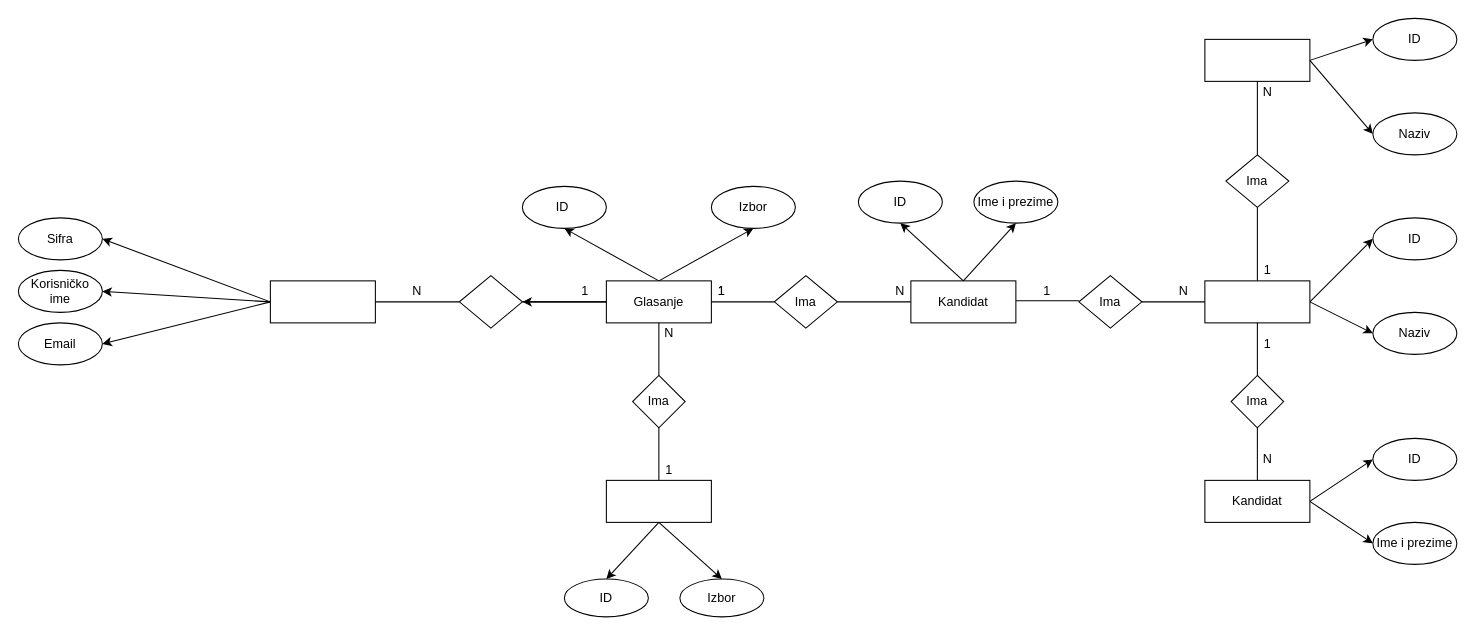
Image size: 1475x635. Some labels were removed from this diagram. The centre of each missing label's shape, as x and y in pixels:
"Biracko mjesto" belongs at (1257,301).
"Korisnik" belongs at (322,301).
"Lista" belongs at (1257,59).
"Radi" belongs at (490,301).
"Sustav pohrane glasa" belongs at (658,500).
